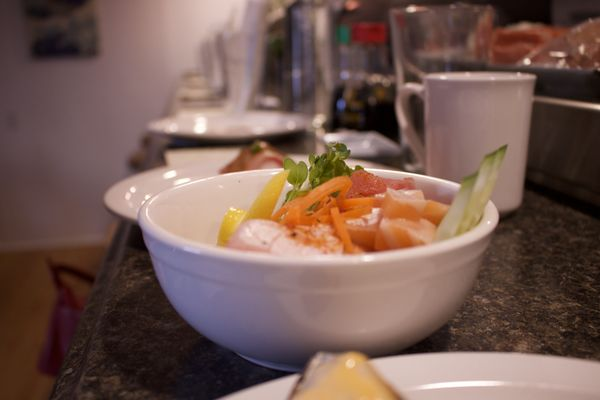pizza: (391, 4, 537, 216), (395, 70, 536, 217)
sushi: (132, 145, 501, 368)
